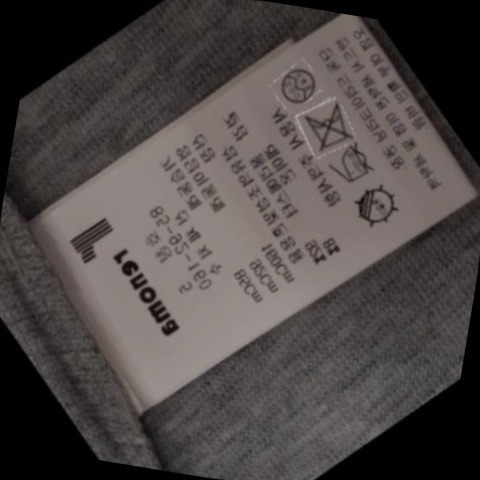DN_wash: (295, 100, 356, 154)
dry_clean_petrol_only: (273, 60, 321, 108)
iron_low: (326, 142, 380, 190)
line_dry_in_shade: (344, 181, 402, 232)
